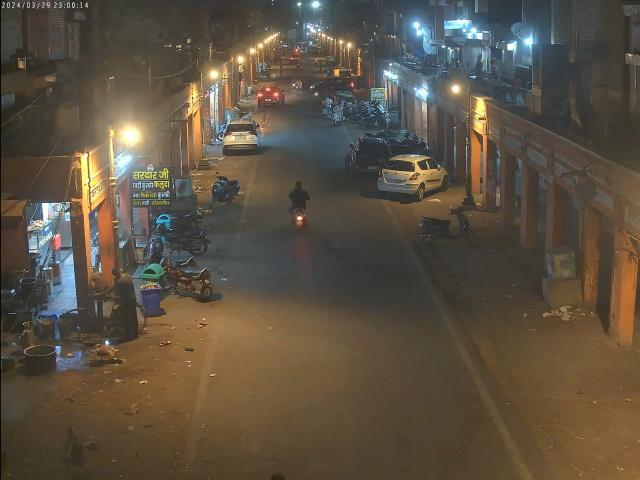car: (376, 154, 448, 204)
motorbike: (161, 256, 217, 300), (155, 223, 208, 253)
motorbike-rider: (287, 180, 312, 229)
scooty: (420, 204, 475, 244), (207, 174, 241, 207)
